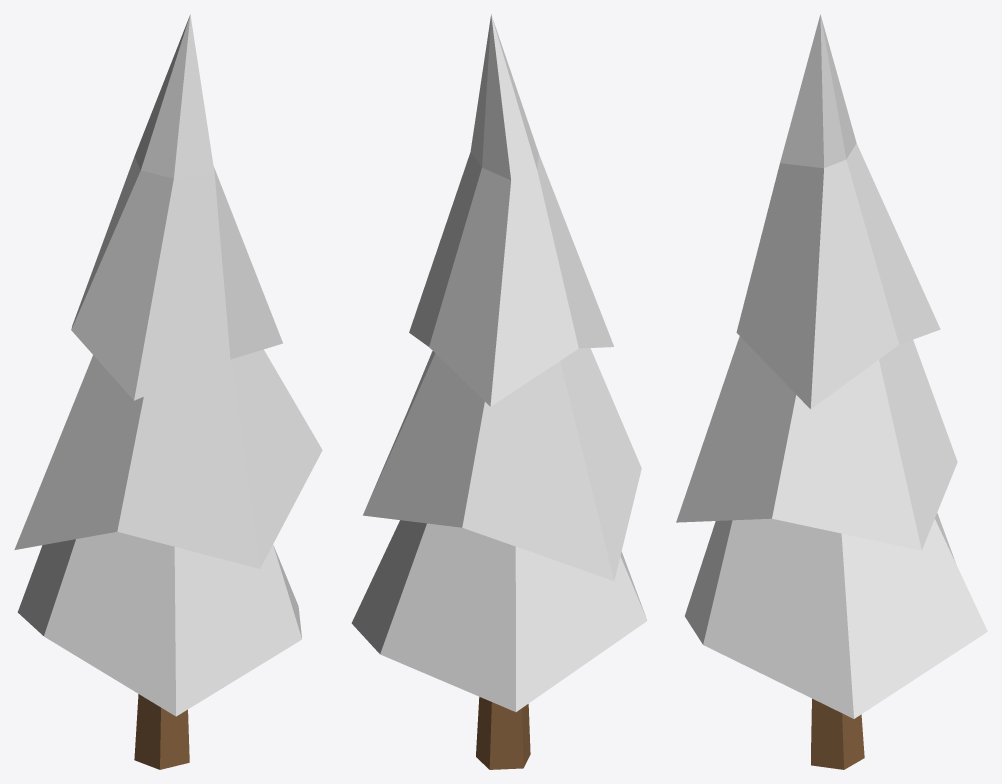
Rendered from Pine_Tree_OneSided_s_Snow_03.fbx.
The picture shows the model from 3 angles, left to right: view 1: azimuth 30°, elevation 25°; view 2: azimuth 150°, elevation 25°; view 3: azimuth 270°, elevation 25°; orthographic projection. The views are drawn at different scales.
Visible parts, largest first — view 1: Pine_Tree_OneSided_s_Snow_03; view 2: Pine_Tree_OneSided_s_Snow_03; view 3: Pine_Tree_OneSided_s_Snow_03.
Boxes of the visible parts, box(x1,y1,x2,y2) form: Pine_Tree_OneSided_s_Snow_03: box(14, 14, 322, 769); Pine_Tree_OneSided_s_Snow_03: box(351, 14, 647, 769); Pine_Tree_OneSided_s_Snow_03: box(676, 14, 987, 769).
Size of the model in its own units: 121 by 310 by 116.
